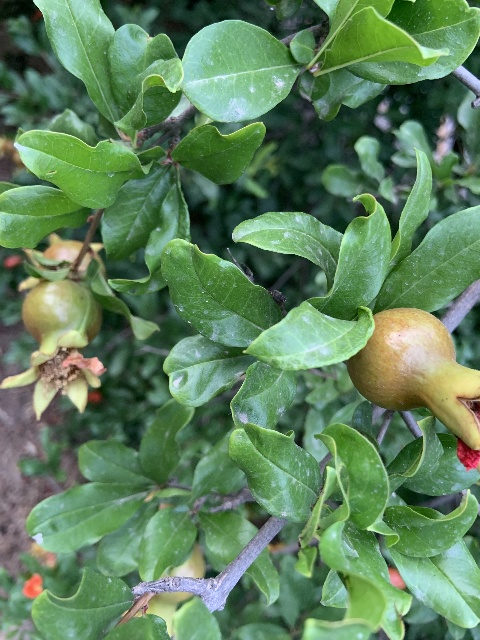early-fruit: (347, 307, 480, 467)
mid-growth: (0, 278, 109, 419)
